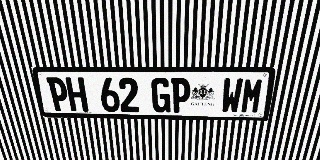2: (118, 78, 139, 112)
6: (99, 77, 120, 112)
G: (151, 78, 170, 113)
H: (65, 77, 88, 112)
M: (240, 78, 265, 114)
P: (46, 77, 70, 111), (171, 78, 191, 113)
W: (220, 78, 244, 113)
